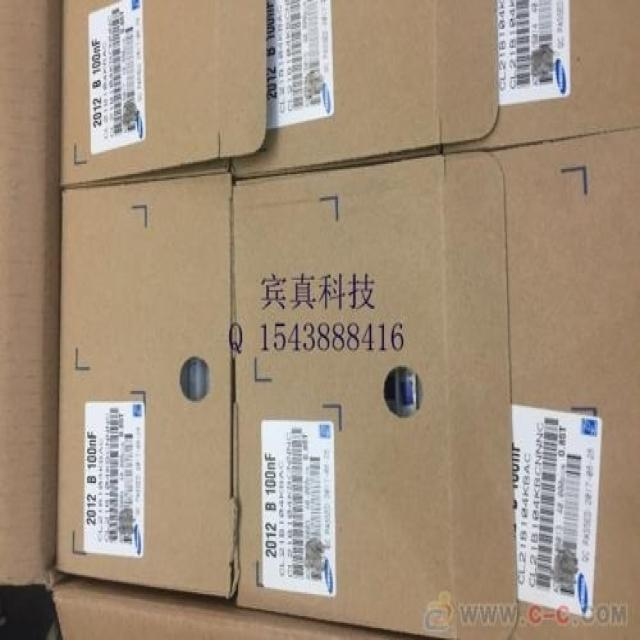box: (232, 151, 518, 638), (58, 176, 238, 601), (490, 130, 639, 638), (229, 3, 498, 180), (61, 1, 268, 186), (444, 1, 638, 153)
